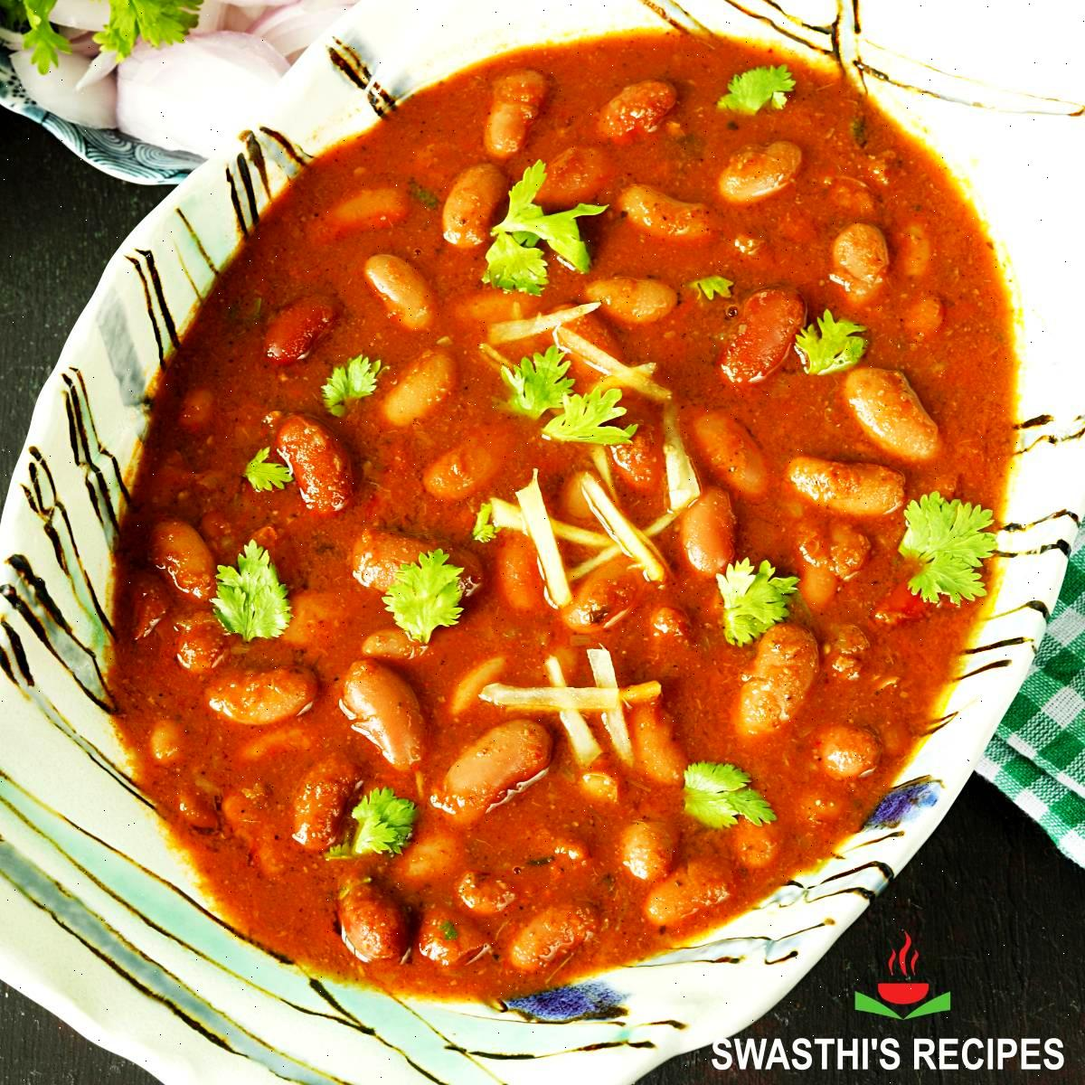rajma: (241, 81, 967, 940)
